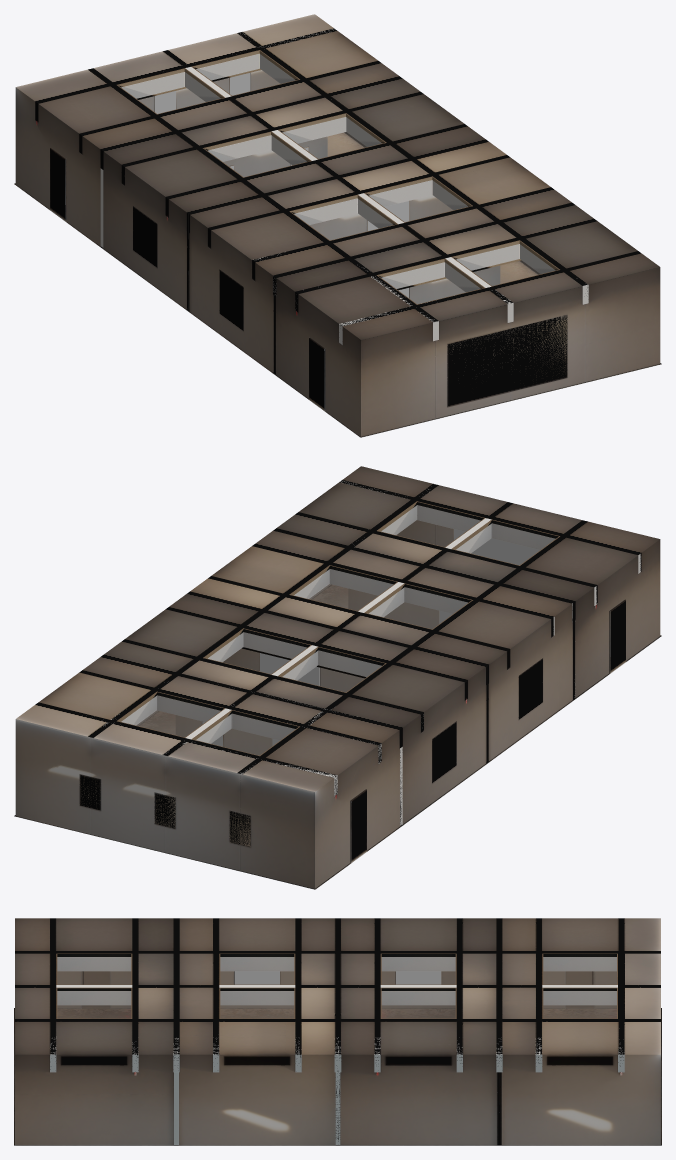
The model's file is Rooms Gallery 2019.fbx.
3 views of the same model, one above another, from view 1: azimuth 30°, elevation 25°; view 2: azimuth 150°, elevation 25°; view 3: azimuth 270°, elevation 25° (orthographic). The views are drawn at different scales.
Parts seen in each view (by area): view 1: celling, walls, beams, lamps, walls_interior, frames, floor; view 2: celling, walls, beams, lamps, walls_interior, frames, floor; view 3: celling, walls, beams, lamps, floor, frames, walls_interior.
Boxes of the visible parts, x1,y1,x2,y2 form: celling: [16, 14, 659, 339]; walls: [14, 70, 661, 437]; beams: [121, 29, 588, 344]; lamps: [117, 50, 559, 304]; walls_interior: [100, 136, 500, 304]; frames: [154, 72, 567, 388]; floor: [327, 132, 538, 283]; celling: [16, 466, 659, 791]; walls: [14, 520, 661, 889]; beams: [103, 481, 640, 796]; lamps: [117, 501, 595, 756]; walls_interior: [175, 588, 574, 825]; frames: [79, 529, 539, 847]; floor: [138, 584, 348, 734]; celling: [15, 918, 660, 1054]; walls: [14, 971, 661, 1145]; beams: [50, 957, 624, 1072]; lamps: [56, 953, 617, 1018]; floor: [57, 1008, 616, 1018]; frames: [234, 971, 441, 984]; walls_interior: [174, 1072, 340, 1144].
Size of the model in its own units: 397 by 122 by 790.
